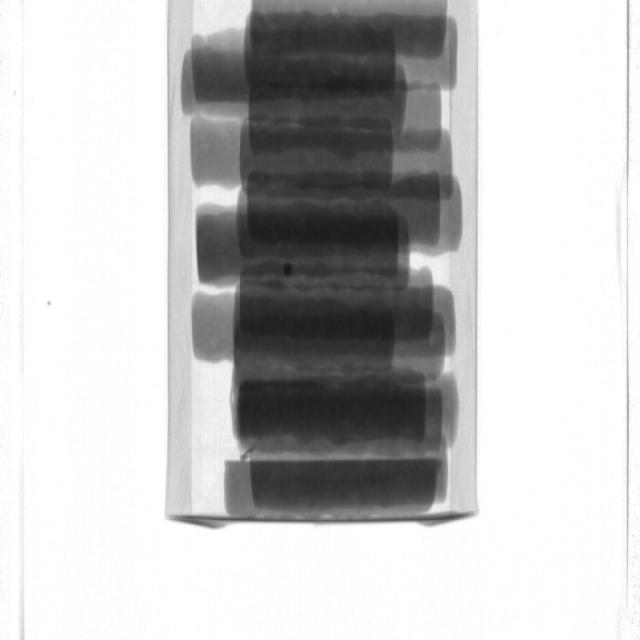ym: (242, 446, 256, 460), (285, 265, 293, 277)
